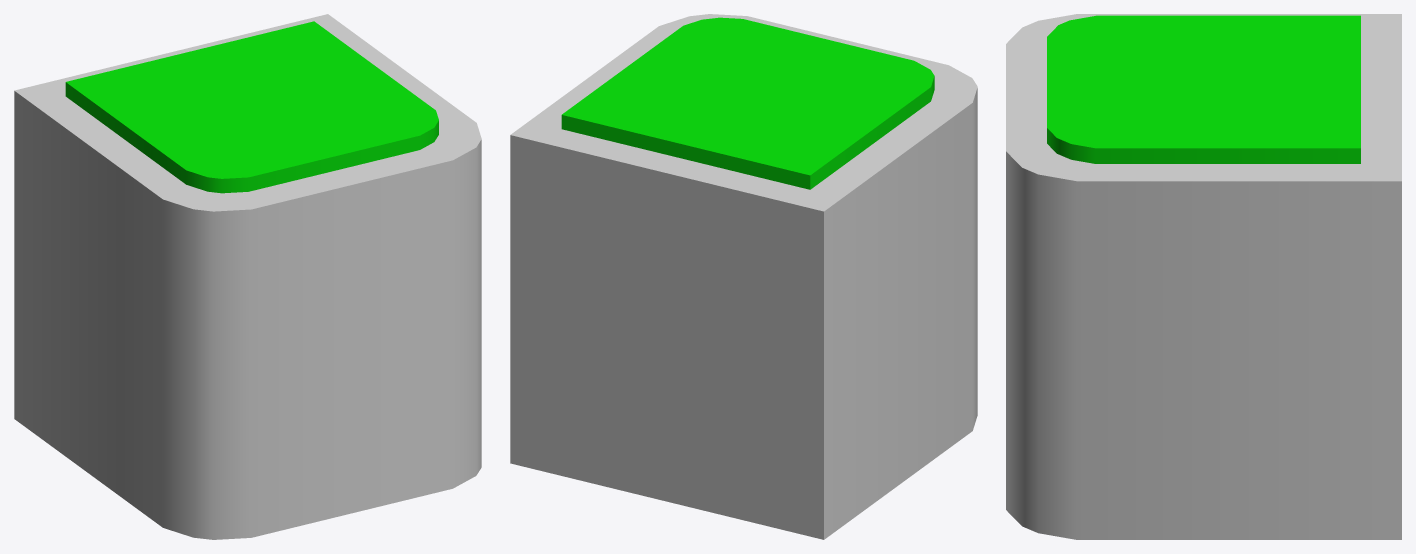
Rendered from TileNormal_2sides.fbx.
The picture shows the model from 3 angles, left to right: view 1: azimuth 30°, elevation 25°; view 2: azimuth 150°, elevation 25°; view 3: azimuth 270°, elevation 25°; orthographic projection. The views are drawn at different scales.
Visible parts, largest first — view 1: TileNormal_2sides; view 2: TileNormal_2sides; view 3: TileNormal_2sides.
Part boxes in pixels (box(x1,y1,x2,y2)): TileNormal_2sides: box(14, 14, 481, 539); TileNormal_2sides: box(510, 14, 977, 539); TileNormal_2sides: box(1006, 14, 1401, 539).
Bounding box in the file's own units: 100 × 104 × 100.
